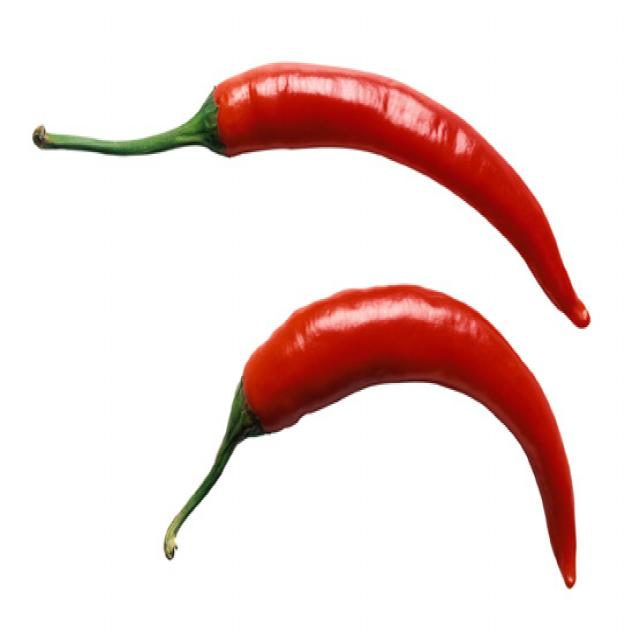red chili: (32, 63, 590, 327), (164, 285, 578, 587)
